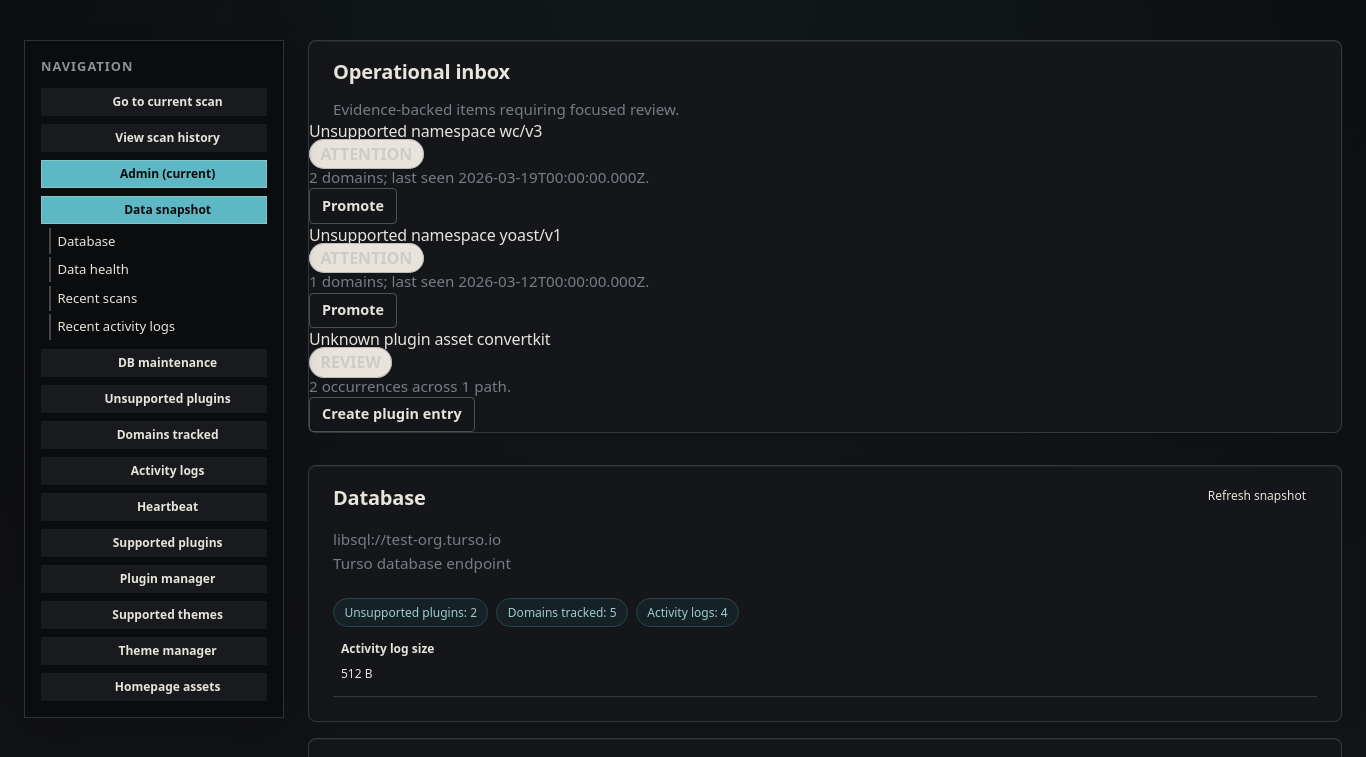
AdminPage integration › promotes an unsupported namespace into the plugin editor
Check: the heading "Database" is shown, box 333,484 -> 426,511
Click the button "Unsupported plugins" at [154, 399], box 41,385 -> 267,413
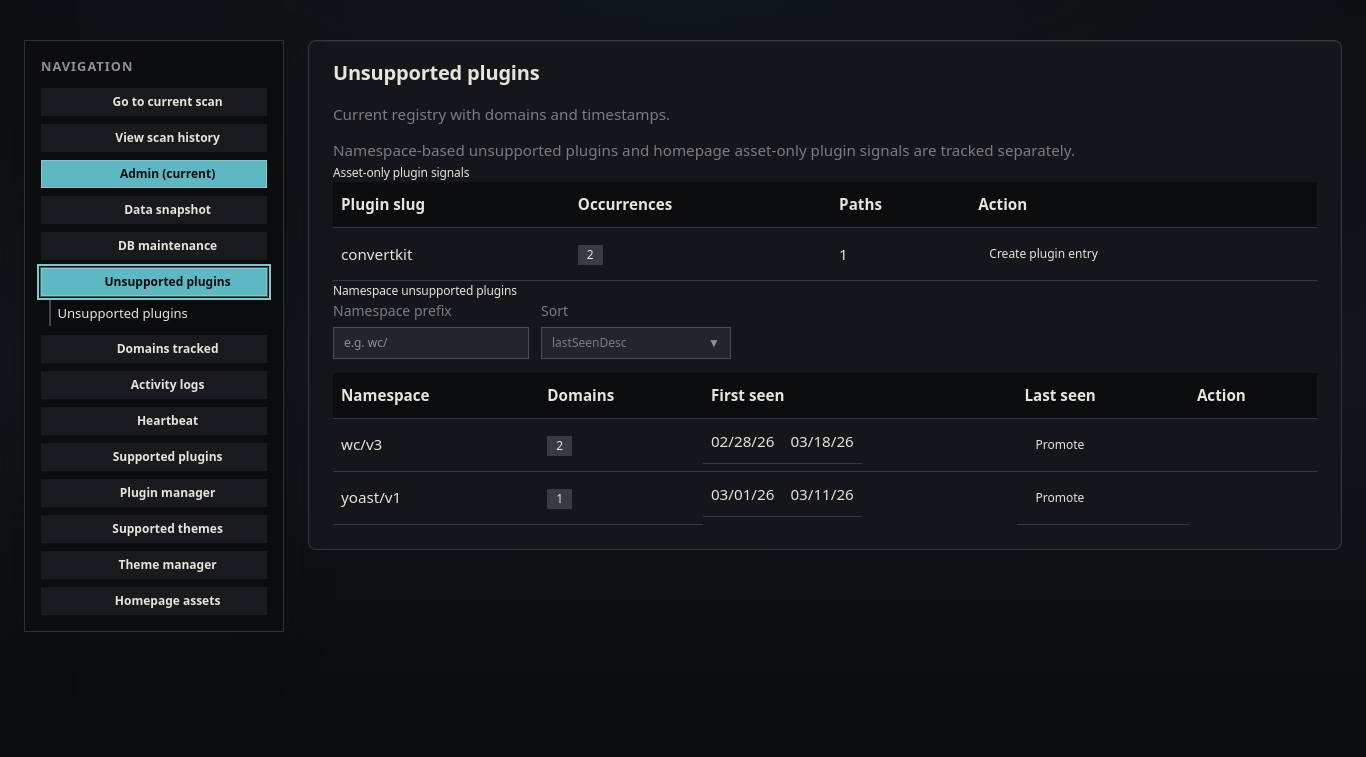
Check: the heading "Unsupported plugins" is shown, box 333,59 -> 539,86
Click the button with aria-label "Promote wc/v3" at [1060, 445], box 1024,431 -> 1095,459
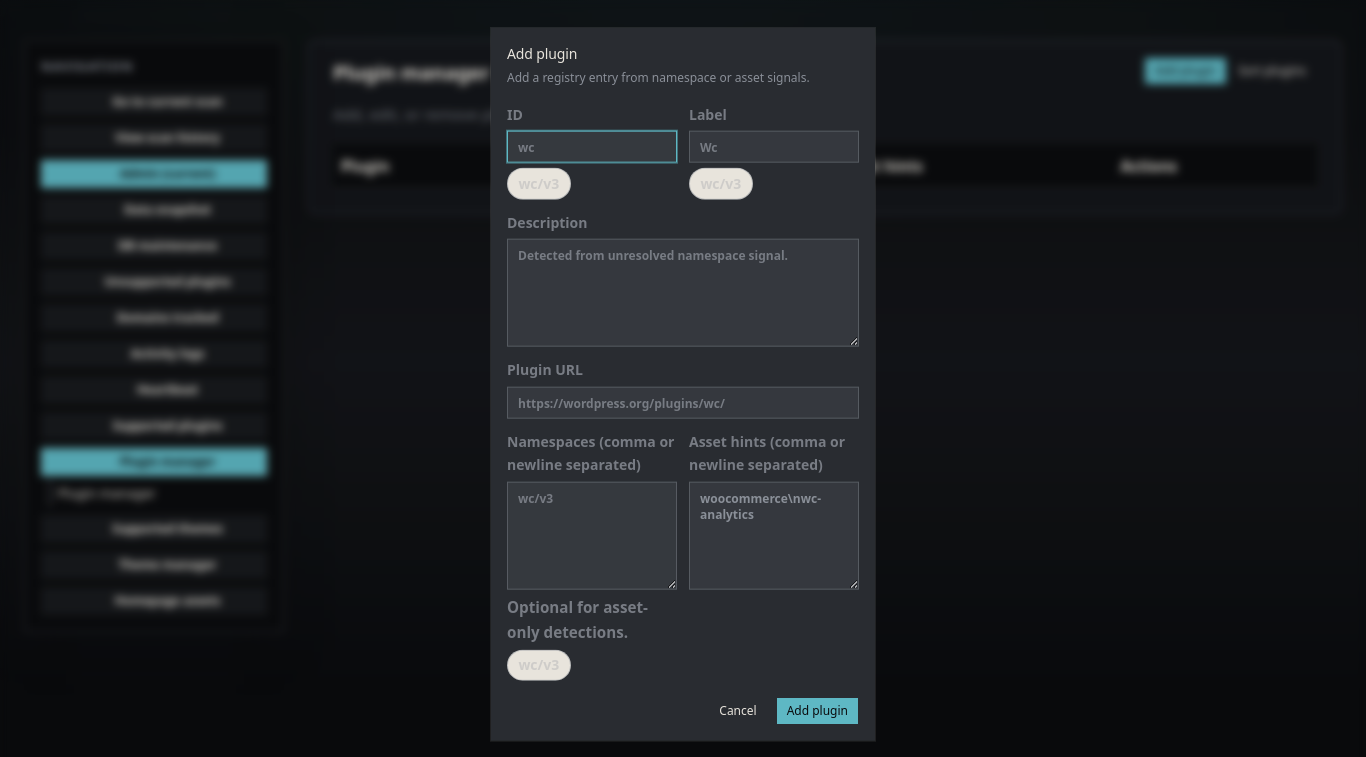
Check: the field labelled "ID" holds "wc", box 507,131 -> 677,163
Check: the field labelled "Label" holds "Wc", box 689,131 -> 859,163
Check: the field labelled "Plugin URL" holds "https://wordpress.org/plugins/wc/", box 507,387 -> 859,419
